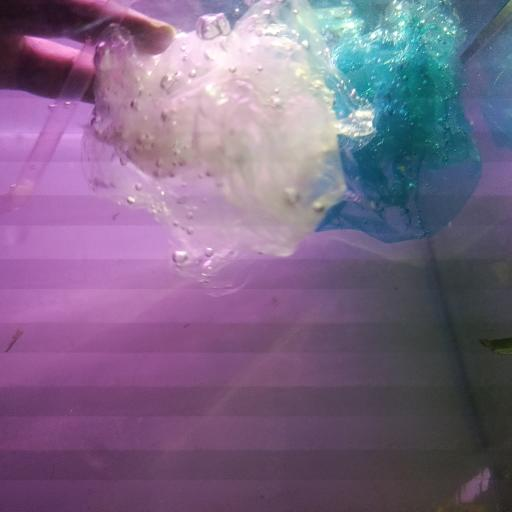plastic_bag: (82, 0, 377, 299), (309, 0, 485, 243)
plastic_straw: (0, 38, 98, 218)
